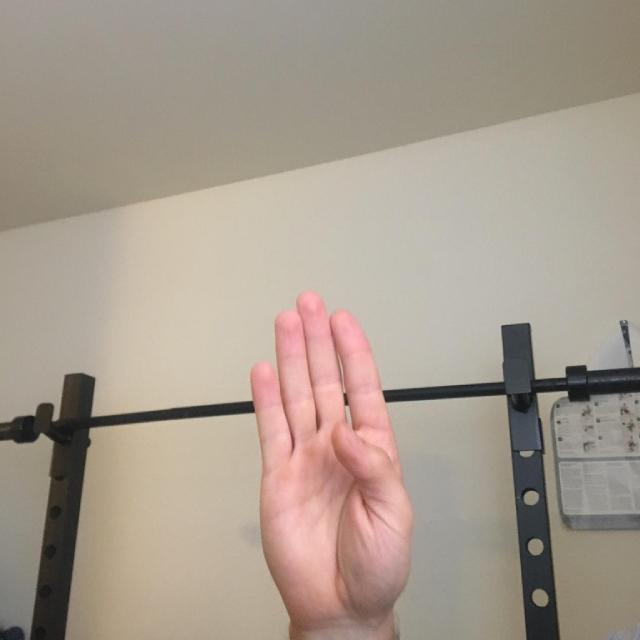B: (197, 276, 461, 632)
